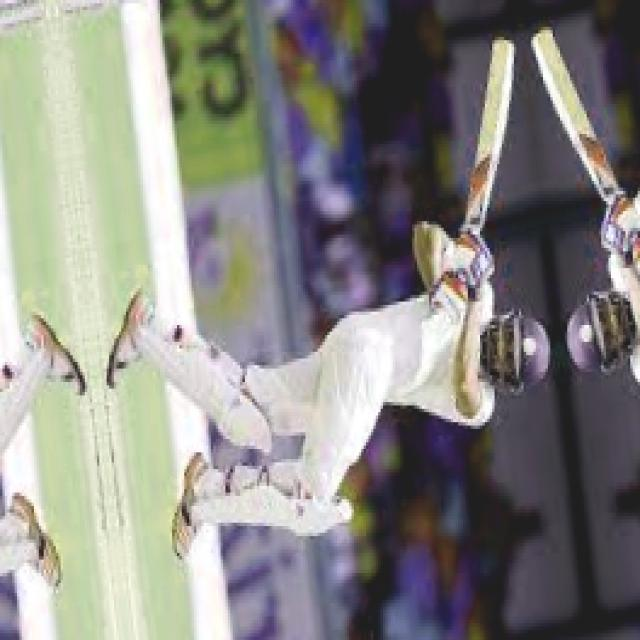toe: (483, 36, 520, 74)
